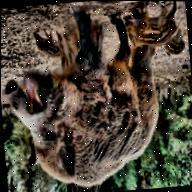boar: (0, 2, 172, 192), (122, 1, 183, 56)
